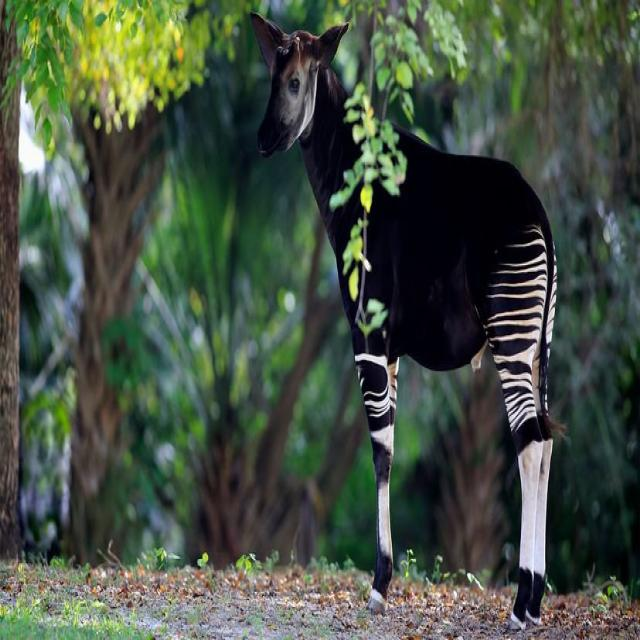Okapi: (249, 5, 561, 627)
